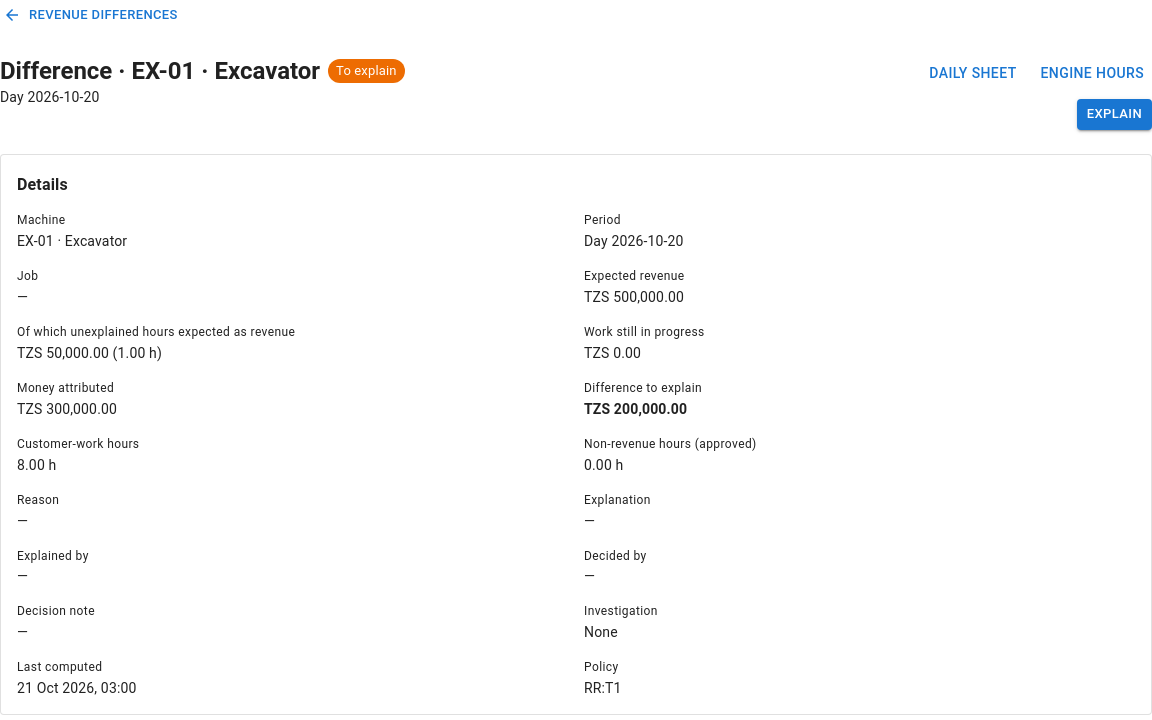
Scenario: Revenue differences › shows jobs and money sources with links, and explains with a reason
The width and height of the screenshot is (1152, 720).
Expected: the heading "Difference · EX-01 · Excavator" is shown, [0,55,320,87]
Click the button "Explain" at [1114, 115], box [1077,99,1151,130]
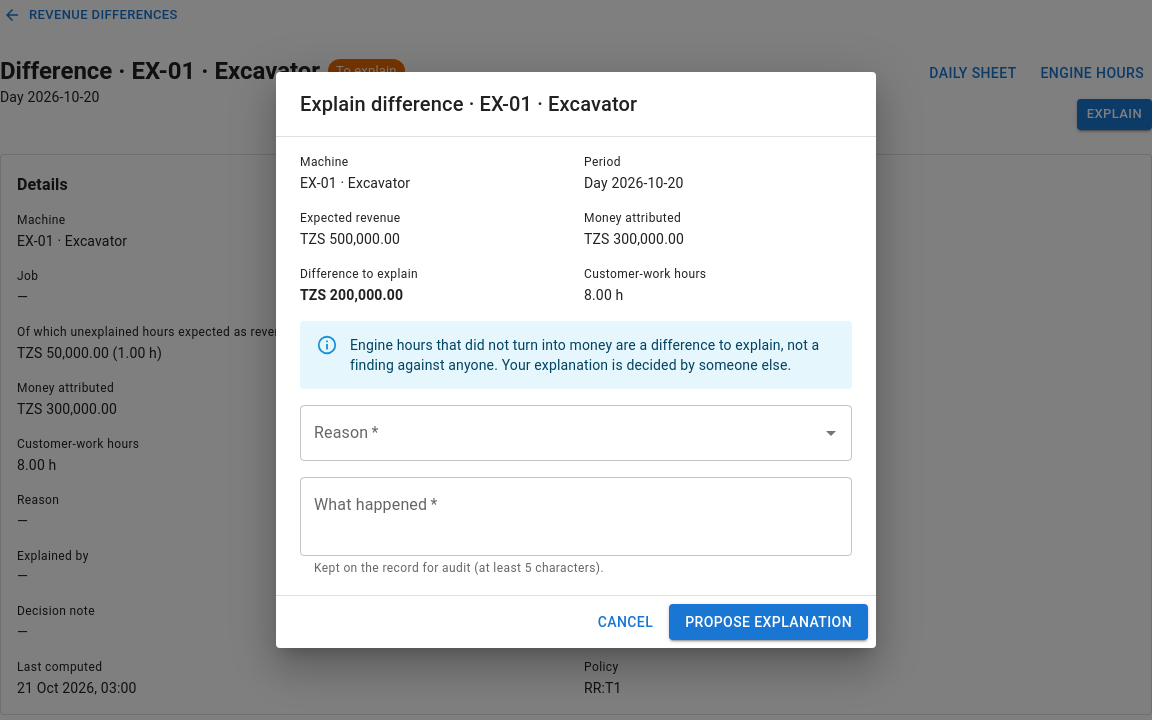
Click the dropdown labelled "Reason *" at [561, 433], box [309,414,813,452]
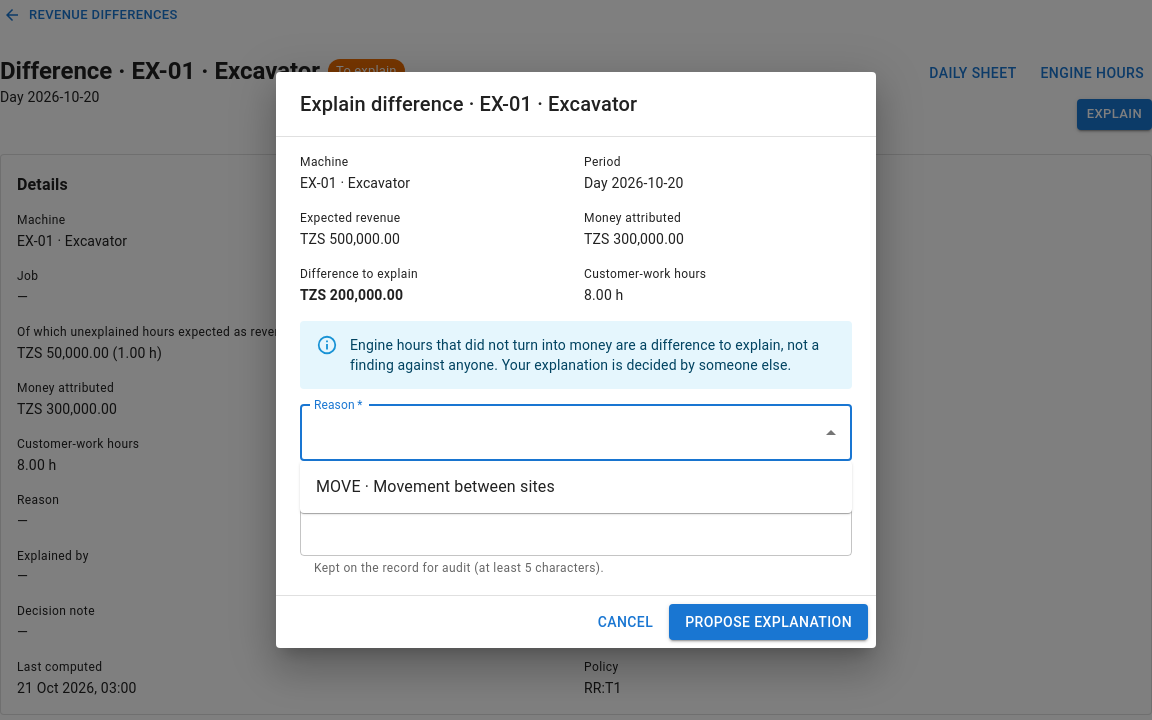
Click the option "MOVE · Movement between sites" at [435, 486], box [316,477,555,496]
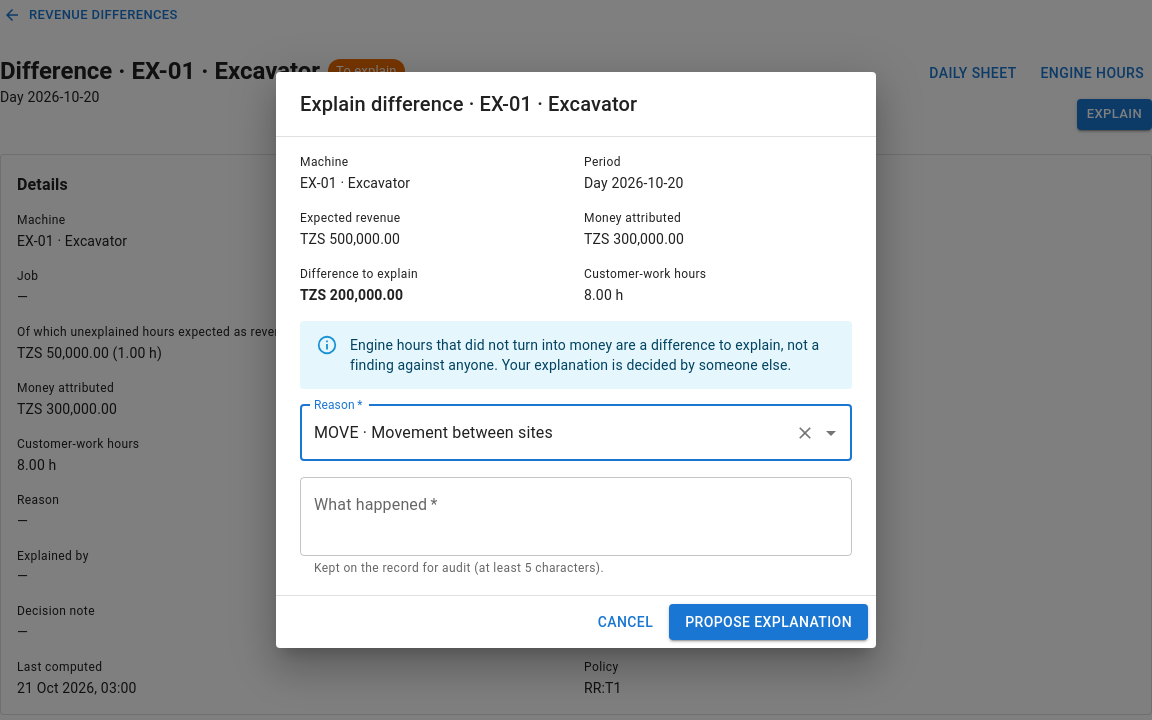
Type "Machine moved to site B" into the text box labelled "What happened *" at [576, 516], box [314,493,838,539]
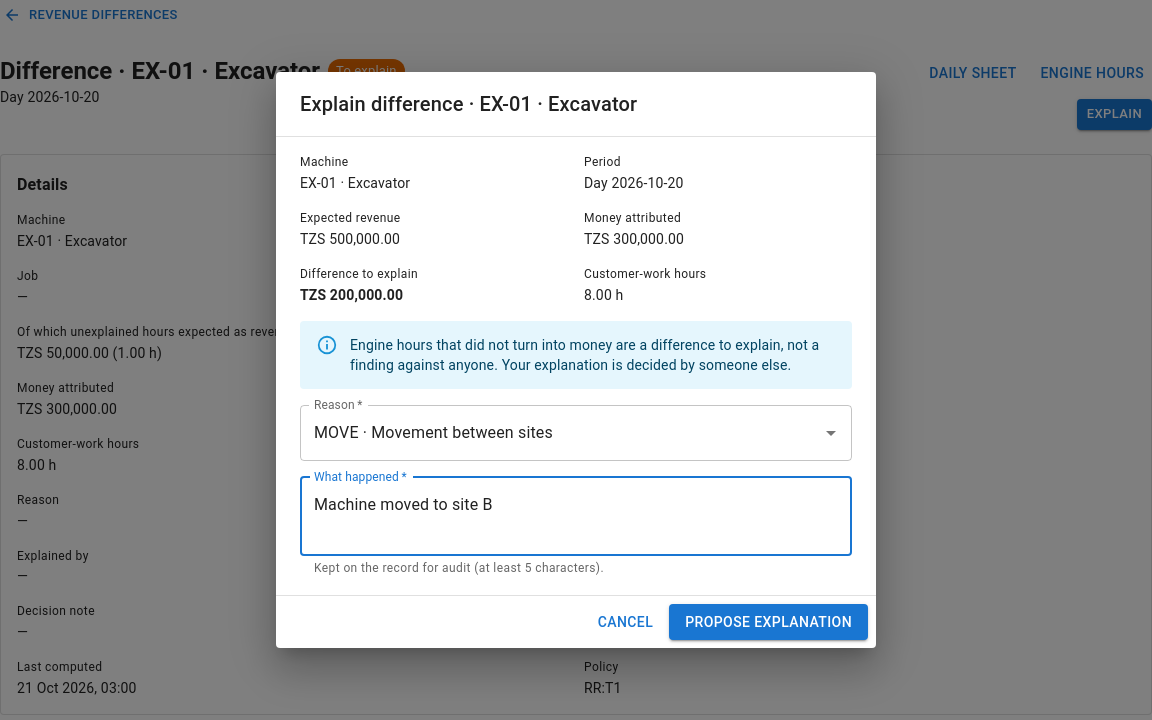
Click the button "Propose explanation" at [769, 622], box [669,604,868,640]
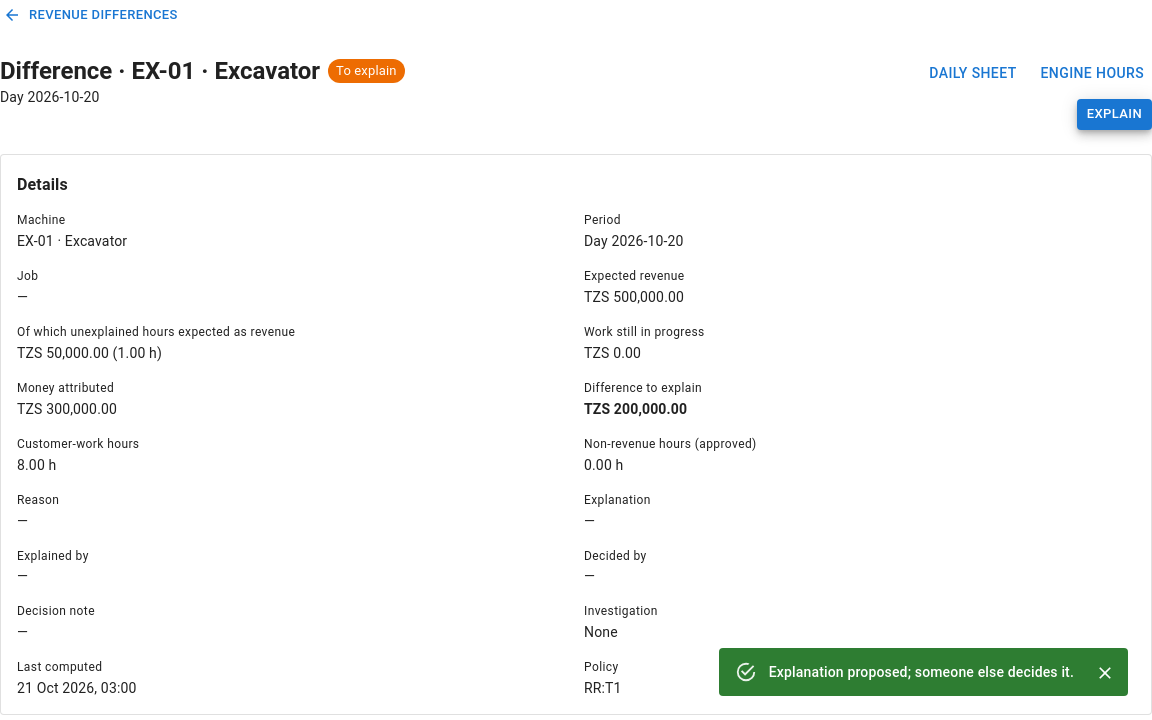
Expected: the text "Explanation proposed; someone else decides it." is shown, [769,664,1074,680]
